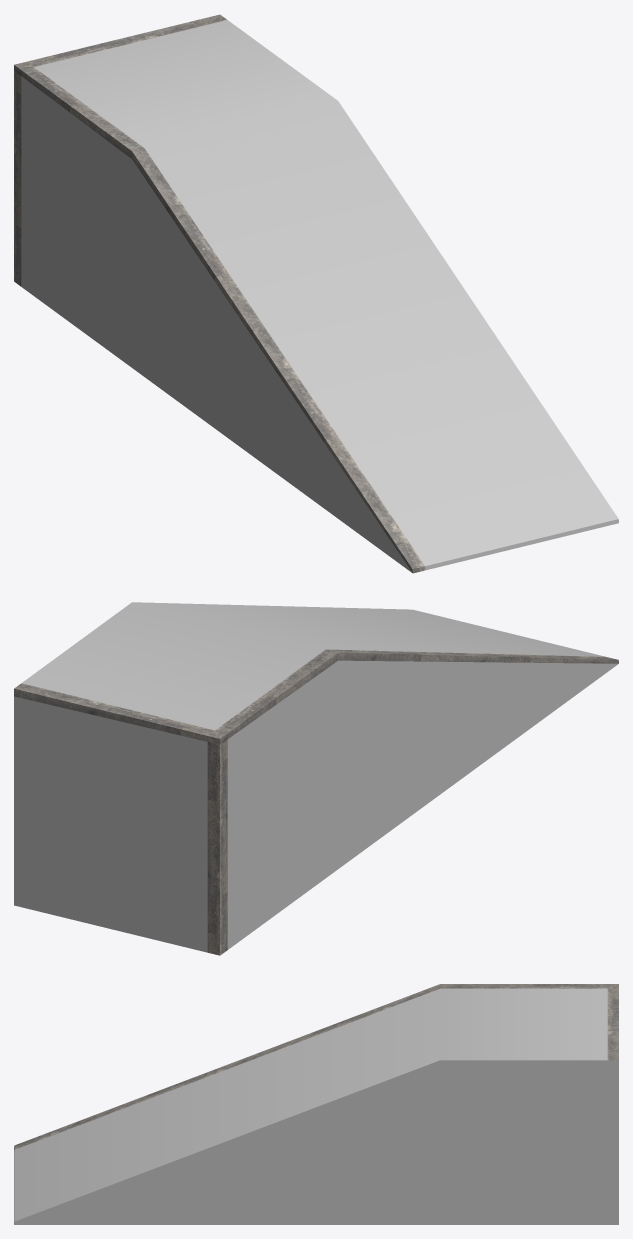
The model's file is JpHouseJ_StoneWall_slope02ar.fbx.
3 views of the same model, one above another, from view 1: azimuth 30°, elevation 25°; view 2: azimuth 150°, elevation 25°; view 3: azimuth 270°, elevation 25° (orthographic). The views are drawn at different scales.
Parts seen in each view (by area): view 1: JpHouseJ_StoneWall_slope02ar; view 2: JpHouseJ_StoneWall_slope02ar; view 3: JpHouseJ_StoneWall_slope02ar.
Boxes of the visible parts, bbox=[...] form: JpHouseJ_StoneWall_slope02ar: bbox=[14, 14, 618, 573]; JpHouseJ_StoneWall_slope02ar: bbox=[14, 602, 618, 955]; JpHouseJ_StoneWall_slope02ar: bbox=[14, 984, 618, 1224].
Size of the model in its own units: 3.83 by 3.85 by 12.85.
